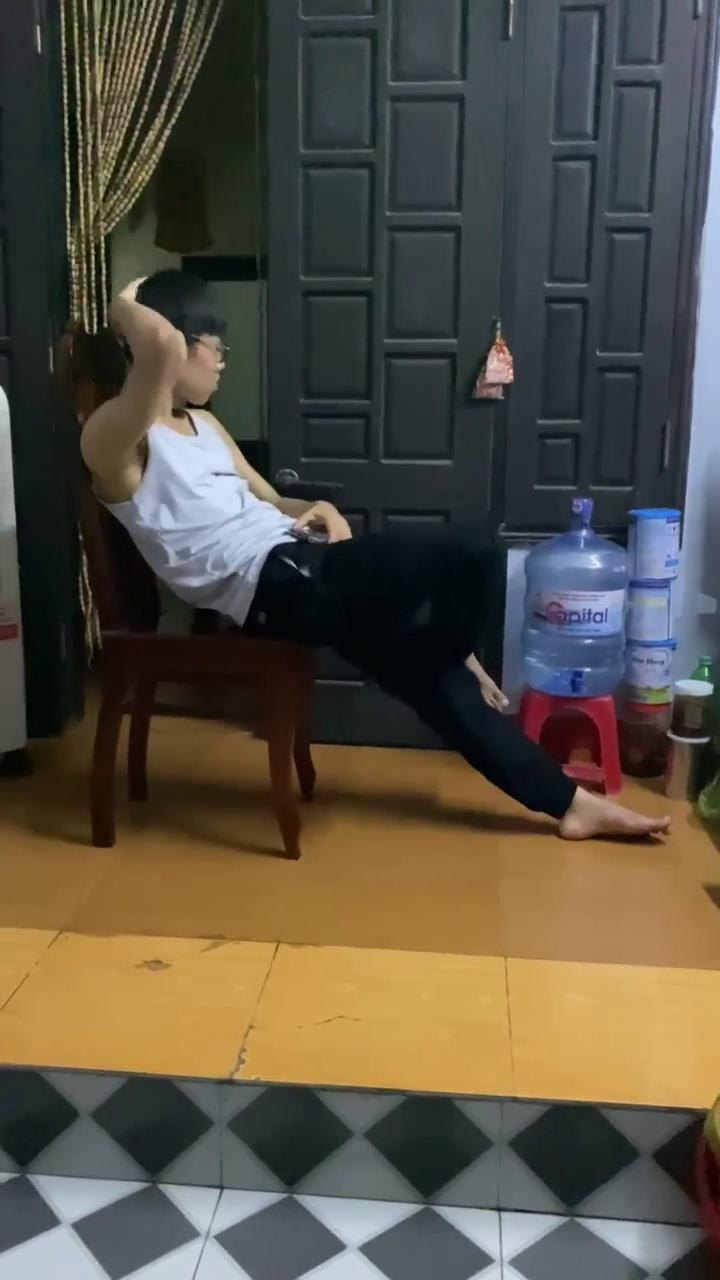BadPosture: (77, 269, 668, 838)
